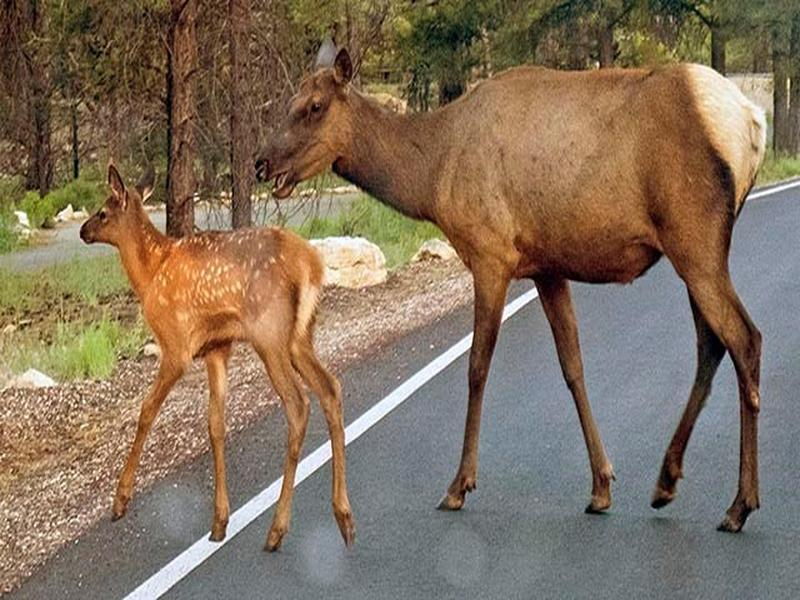elk: (252, 42, 773, 535), (81, 164, 364, 552)
